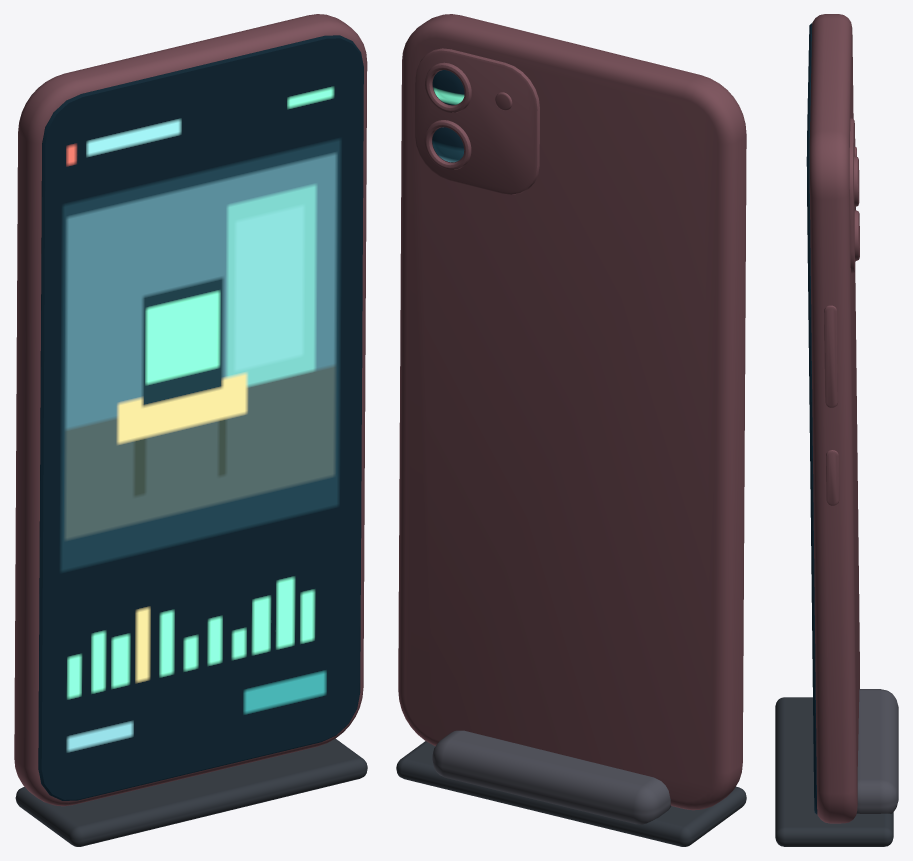
3 renders of one model, left to right at view 1: azimuth 30°, elevation 25°; view 2: azimuth 150°, elevation 25°; view 3: azimuth 270°, elevation 25°, orthographic. The views are drawn at different scales.
Parts seen in each view (by area): view 1: phone-screen, phone-body-stock, phone-case-foot; view 2: phone-body-stock, phone-case-rear-sill, phone-case-foot, phone-screen; view 3: phone-body-stock, phone-case-foot, phone-case-rear-sill, phone-screen.
Part boxes in pixels (box(x1,y1,x2,y2)): phone-screen: box(38, 35, 363, 800); phone-body-stock: box(14, 14, 367, 806); phone-case-foot: box(15, 738, 367, 846); phone-body-stock: box(398, 14, 746, 810); phone-case-rear-sill: box(432, 730, 670, 824); phone-case-foot: box(396, 741, 746, 846); phone-screen: box(432, 70, 464, 162); phone-body-stock: box(809, 14, 859, 823); phone-case-foot: box(775, 697, 893, 846); phone-case-rear-sill: box(856, 689, 898, 813); phone-screen: box(806, 23, 817, 814).
Bounding box in the file's own units: 0.0719 × 0.1515 × 0.024.
Materials: 4 (1 with a texture image).
